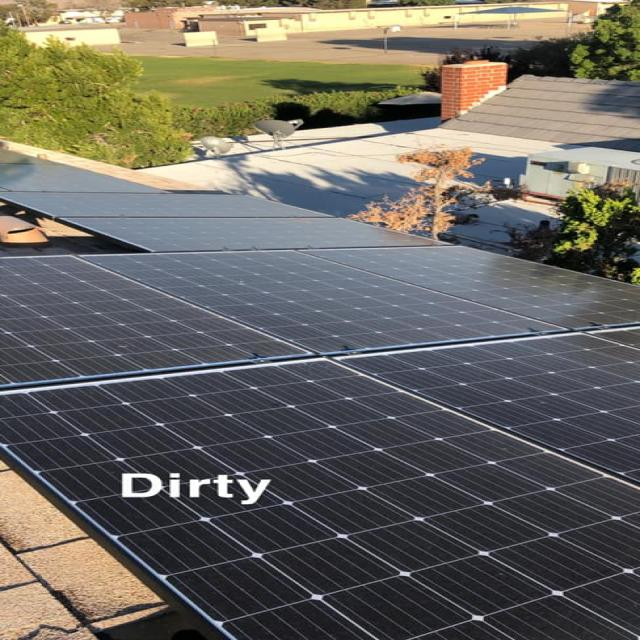clean-solar-panel: (5, 246, 639, 640)
